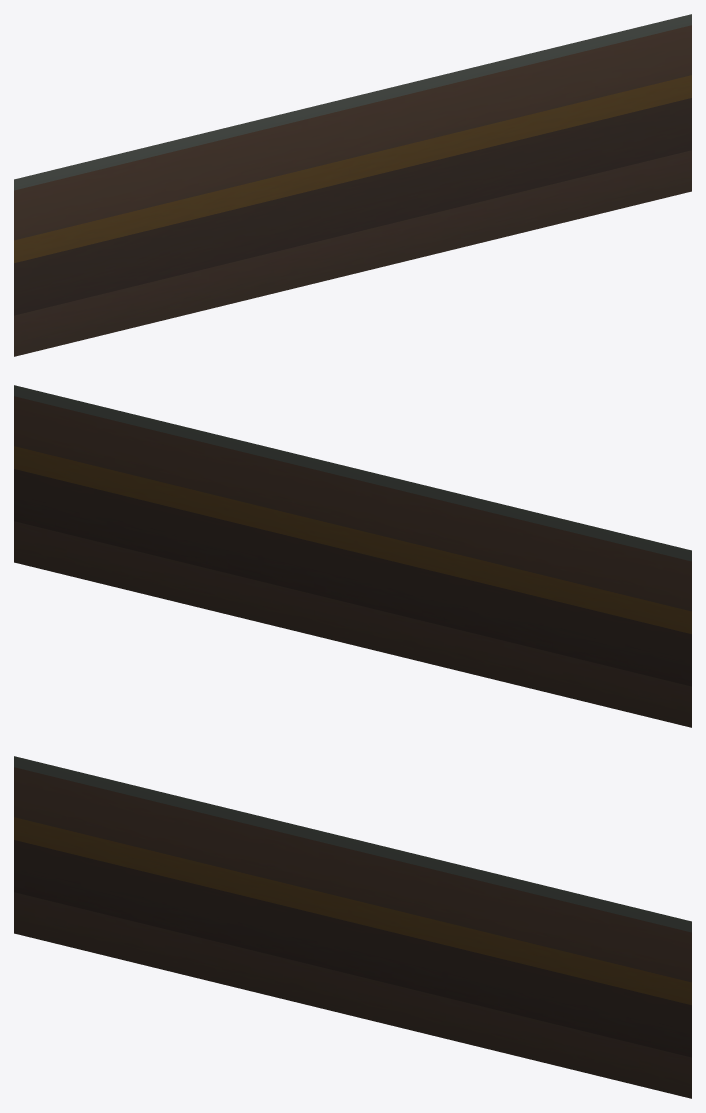
Rendered from earth_wall_x8.fbx.
3 views of the same model, one above another, from view 1: azimuth 30°, elevation 25°; view 2: azimuth 150°, elevation 25°; view 3: azimuth 330°, elevation 25° (orthographic).
Parts seen in each view (by area): view 1: earth_wall_x8; view 2: earth_wall_x8; view 3: earth_wall_x8.
Boxes of the visible parts, x1,y1,x2,y2 form: earth_wall_x8: (14,14,691,356); earth_wall_x8: (14,385,691,727); earth_wall_x8: (14,756,691,1098).
Size of the model in its own units: 1600 by 400 by 0.
